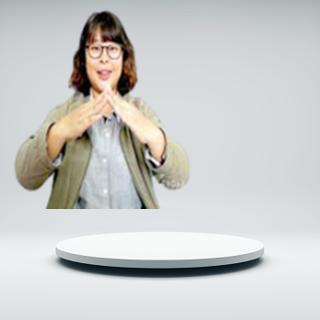HOME: (61, 84, 155, 144)
